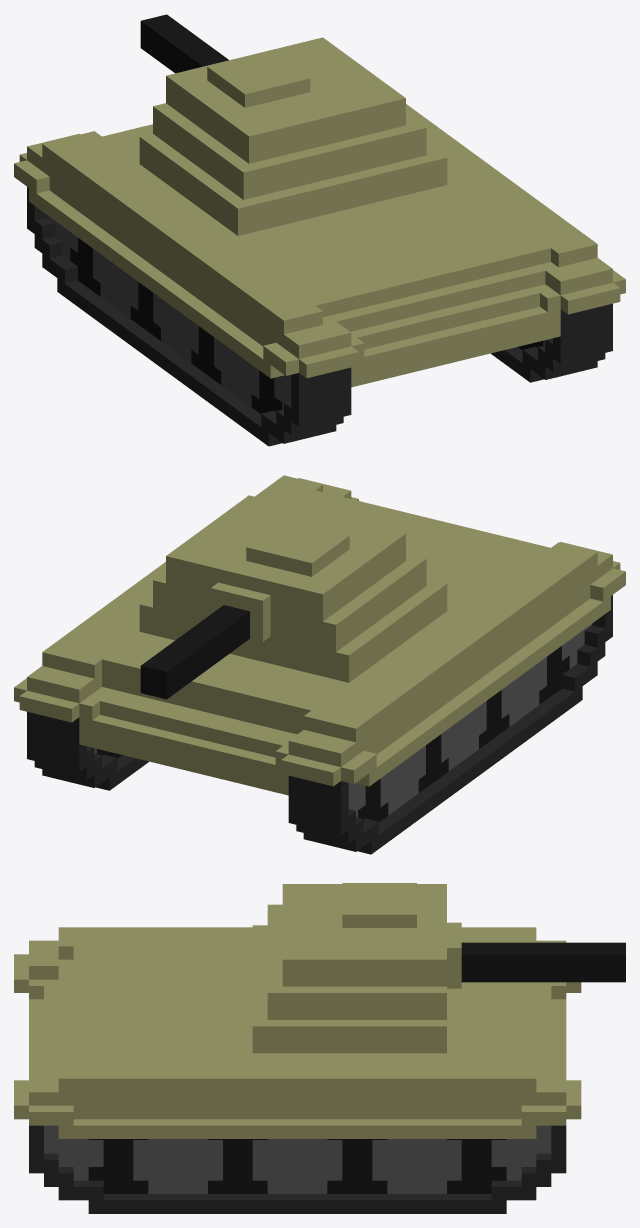
Rendered from GERMAN-TANK.fbx.
The picture shows the model from 3 angles, top to bottom: view 1: azimuth 30°, elevation 25°; view 2: azimuth 150°, elevation 25°; view 3: azimuth 270°, elevation 25°; orthographic projection.
Visible parts, largest first — view 1: node_dc1203f0_51bb_437c_88c2_1008c56586d1_mesh0; view 2: node_dc1203f0_51bb_437c_88c2_1008c56586d1_mesh0; view 3: node_dc1203f0_51bb_437c_88c2_1008c56586d1_mesh0.
Boxes of the visible parts, bbox=[...] form: node_dc1203f0_51bb_437c_88c2_1008c56586d1_mesh0: bbox=[14, 14, 625, 446]; node_dc1203f0_51bb_437c_88c2_1008c56586d1_mesh0: bbox=[14, 475, 625, 854]; node_dc1203f0_51bb_437c_88c2_1008c56586d1_mesh0: bbox=[14, 883, 625, 1213].
Size of the model in its own units: 2600 by 1700 by 4100.
Materials: 1 (1 with a texture image).
